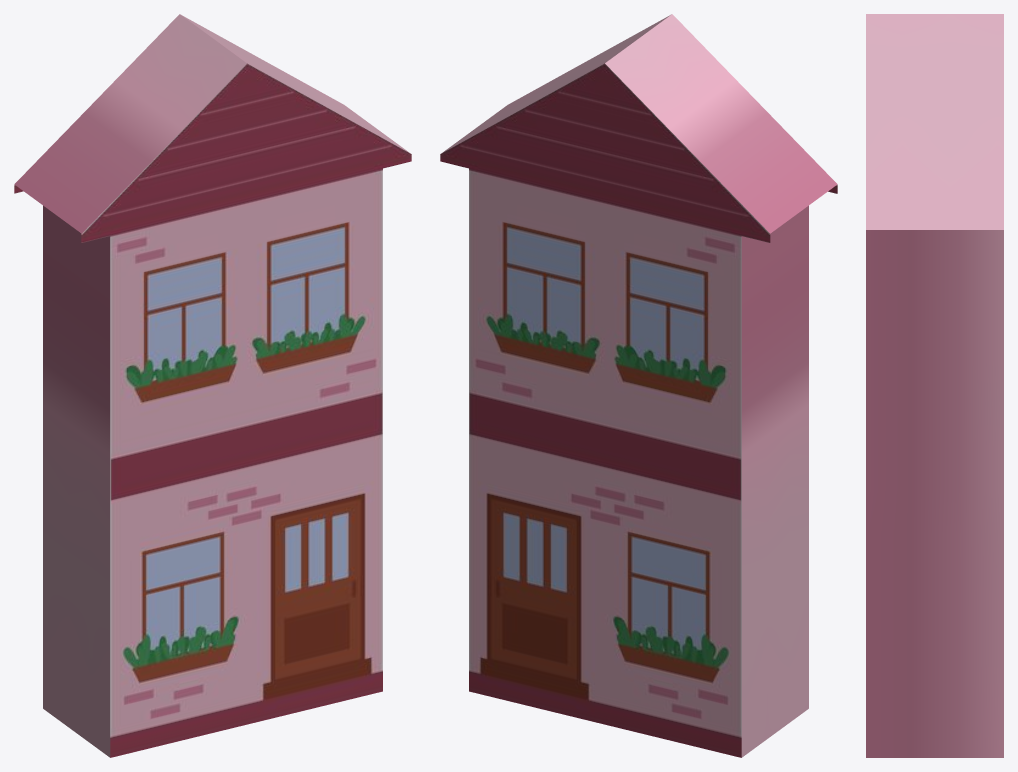
3 views of the same model, side by side, from view 1: azimuth 30°, elevation 25°; view 2: azimuth 150°, elevation 25°; view 3: azimuth 270°, elevation 25° (orthographic). The views are drawn at different scales.
Visible parts, largest first — view 1: 2datp90; view 2: 2datp90; view 3: 2datp90.
Part boxes in pixels (box(x1,y1,x2,y2)): 2datp90: box(14, 14, 411, 757); 2datp90: box(440, 14, 837, 757); 2datp90: box(866, 14, 1003, 757).
Bounding box in the file's own units: 50.19 × 96.1 × 17.77.
